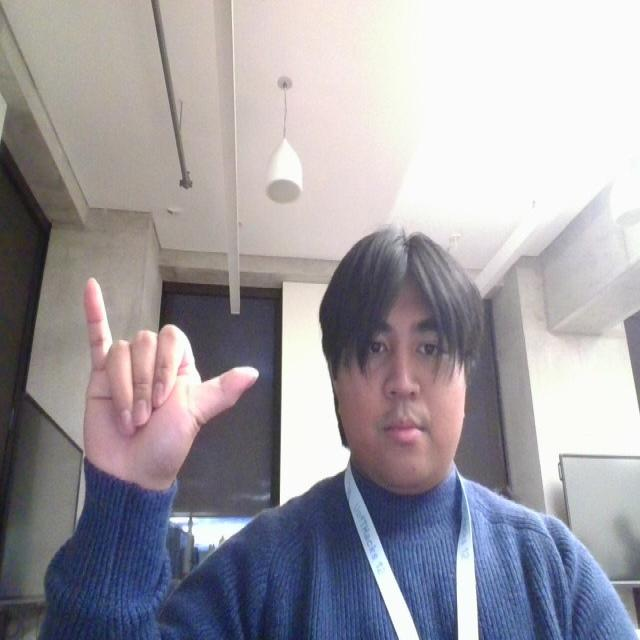Ysign: (70, 266, 269, 496)
